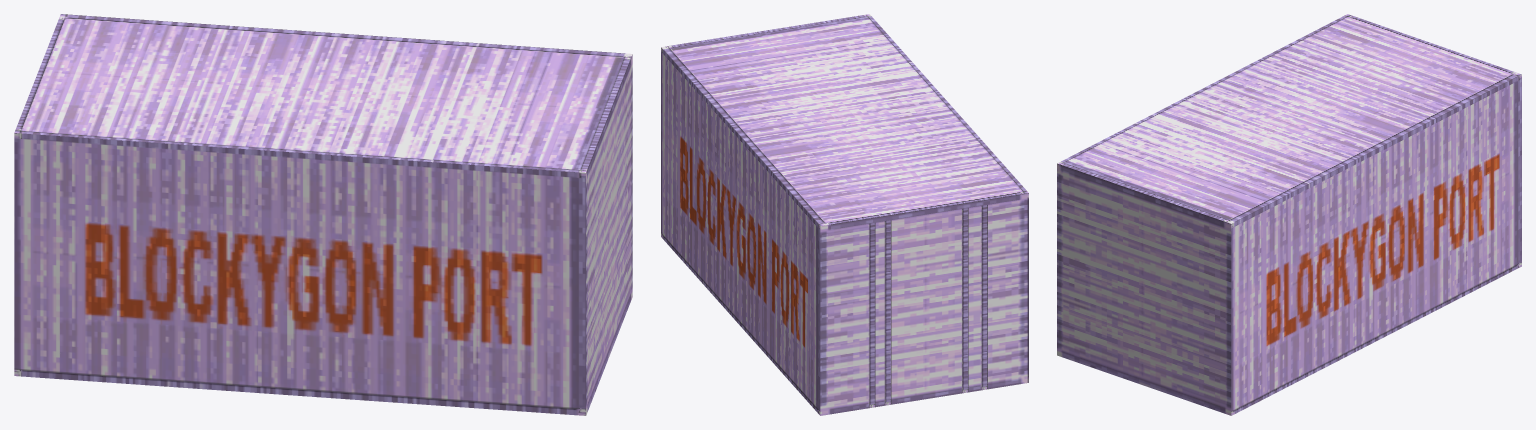
File: BLOCKYGON_WHITE CONTAINER(CLOSED).fbx
3 views of the same model, side by side, from view 1: azimuth 30°, elevation 25°; view 2: azimuth 150°, elevation 25°; view 3: azimuth 270°, elevation 25° (orthographic). The views are drawn at different scales.
Parts seen in each view (by area): view 1: BLOCKYGON_WHITE_CONTAINER_CLOSED_; view 2: BLOCKYGON_WHITE_CONTAINER_CLOSED_; view 3: BLOCKYGON_WHITE_CONTAINER_CLOSED_.
Boxes of the visible parts, bbox=[...] form: BLOCKYGON_WHITE_CONTAINER_CLOSED_: bbox=[14, 14, 632, 415]; BLOCKYGON_WHITE_CONTAINER_CLOSED_: bbox=[661, 14, 1028, 415]; BLOCKYGON_WHITE_CONTAINER_CLOSED_: bbox=[1057, 14, 1521, 415].
Size of the model in its own units: 479 by 204 by 448.
